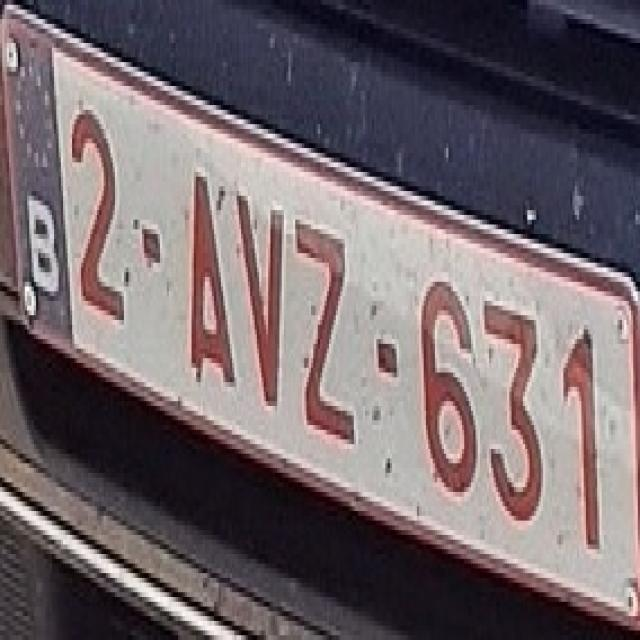1: (548, 306, 610, 544)
2: (50, 91, 136, 325)
3: (473, 286, 552, 526)
6: (404, 253, 484, 497)
A: (172, 148, 244, 392)
V: (221, 172, 291, 402)
Z: (282, 190, 358, 440)
